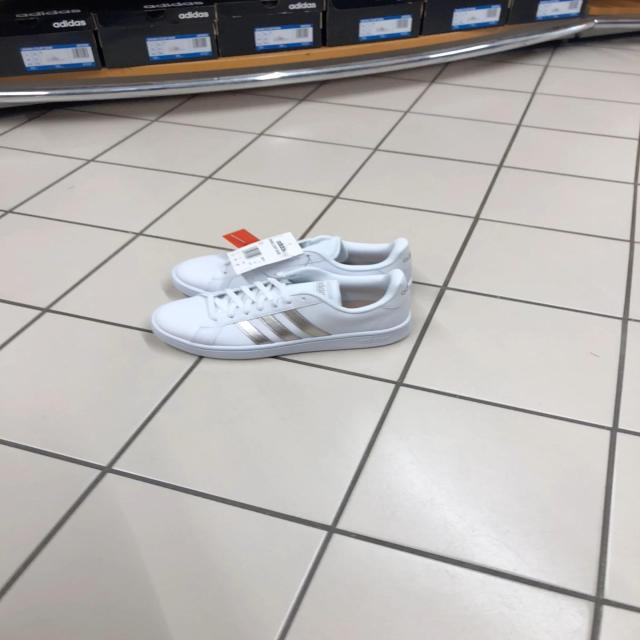shoe: (149, 256, 412, 360)
